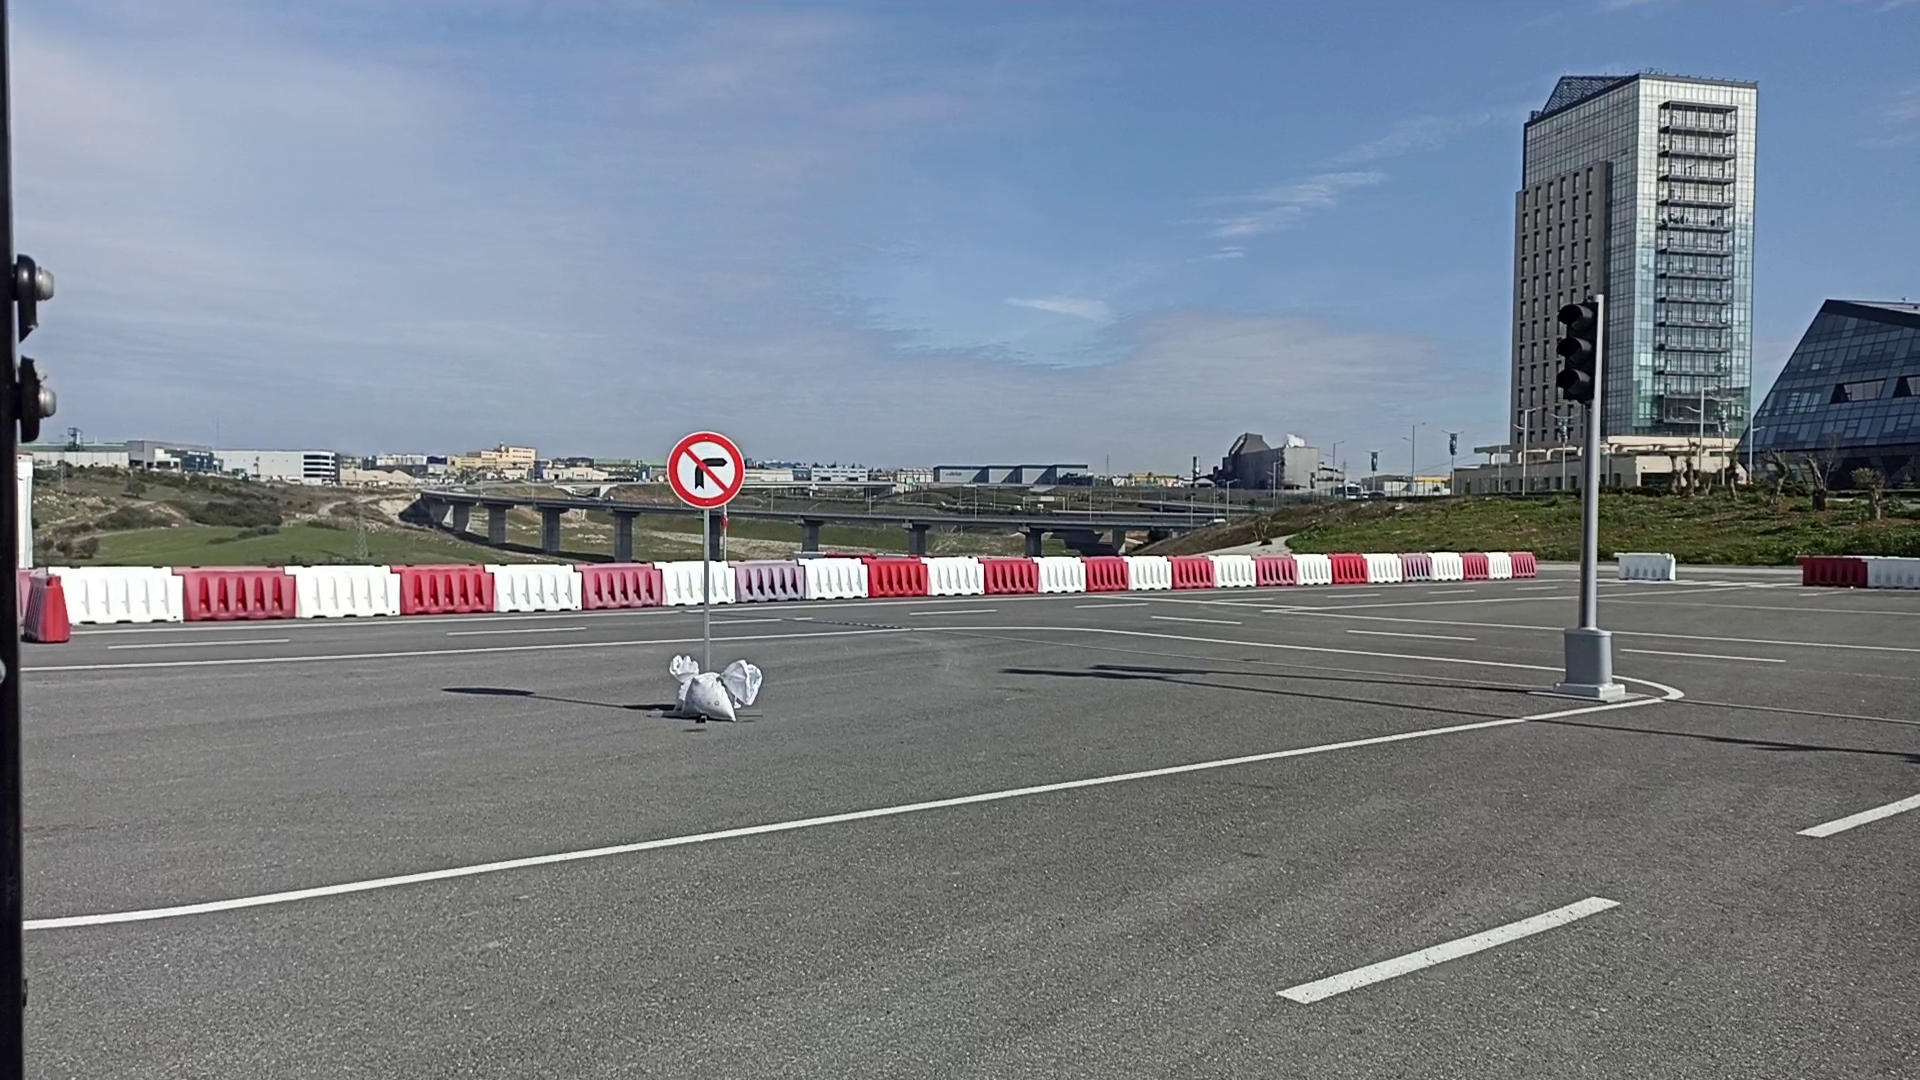noleftturn: (666, 429, 746, 509)
trafficlight: (1552, 293, 1606, 404)
